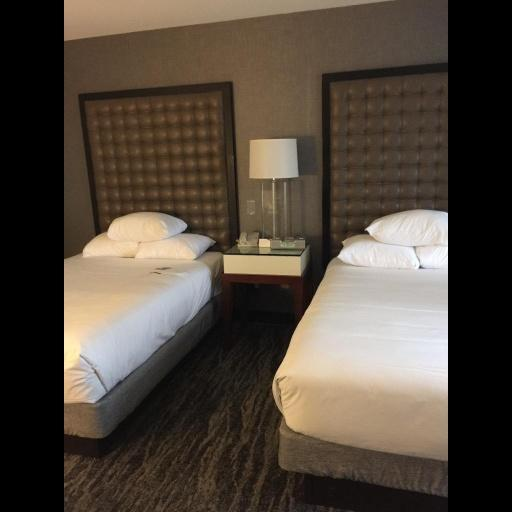clean_bed: (270, 63, 446, 492), (63, 84, 239, 454)
clean_floor: (61, 309, 330, 508)
lamp: (248, 132, 301, 246)
organised_pillow: (337, 206, 449, 268), (82, 214, 209, 260)
